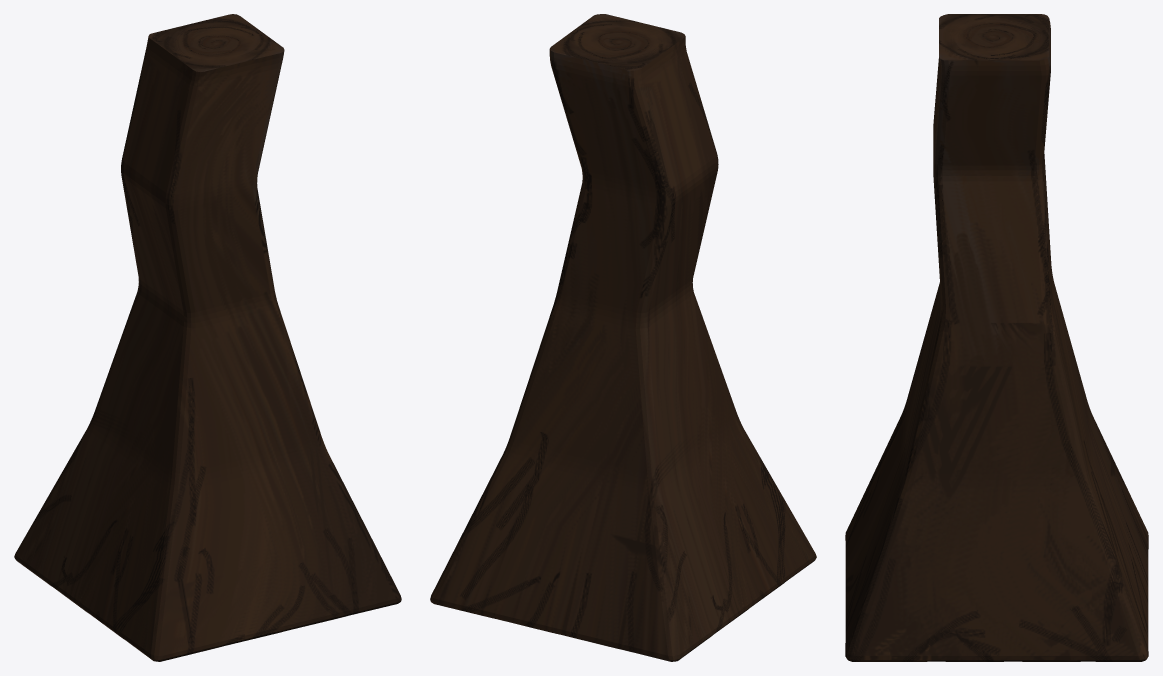
The model's file is tree2.fbx.
3 views of the same model, side by side, from view 1: azimuth 30°, elevation 25°; view 2: azimuth 150°, elevation 25°; view 3: azimuth 270°, elevation 25° (orthographic). The views are drawn at different scales.
Visible parts, largest first — view 1: Cube.032; view 2: Cube.032; view 3: Cube.032.
Boxes of the visible parts, x1=… form: Cube.032: x1=14, y1=14, x2=401, y2=661; Cube.032: x1=430, y1=14, x2=816, y2=661; Cube.032: x1=845, y1=14, x2=1148, y2=661.
Bounding box in the file's own units: 352 × 726 × 352.
1 material, 1 textured.
